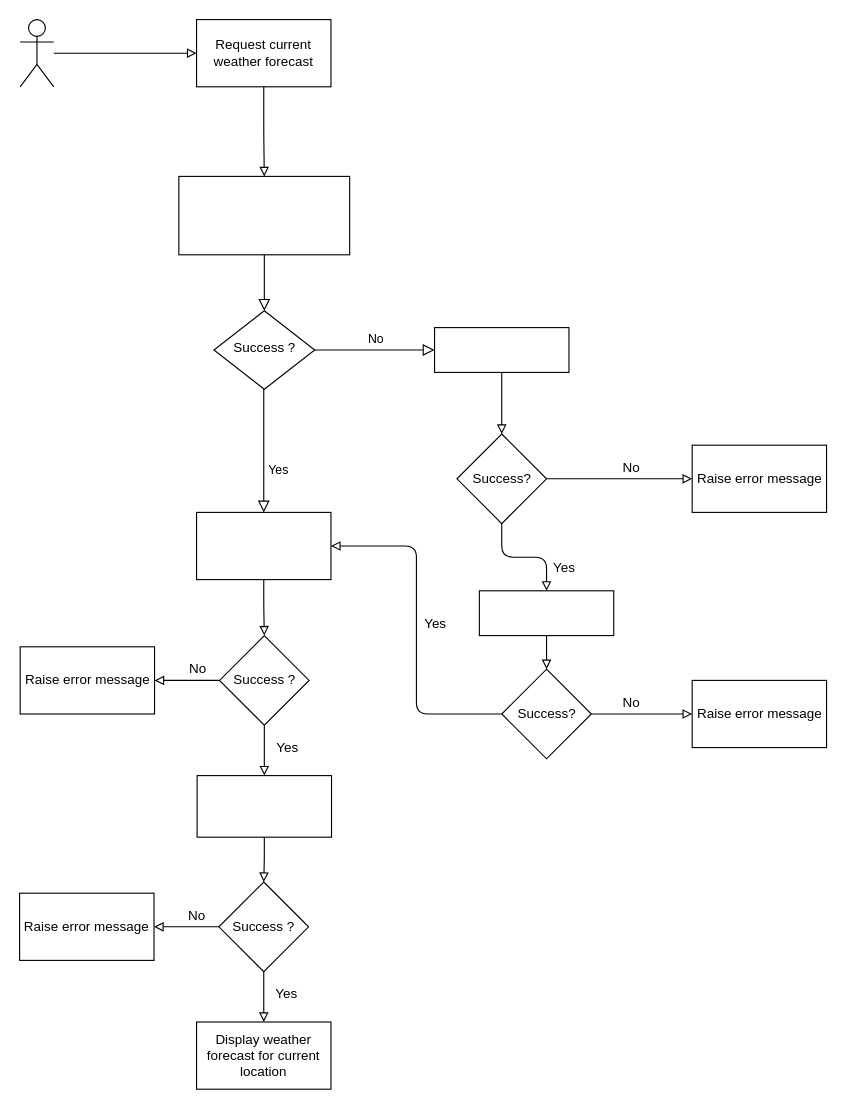
The diagram is 847 pixels wide and 1109 high, and some of its shapes have lost their labels. Each missing label, with the centre of its shape:
Detect IP: [501,349]
Detect location by IP: [546,613]
Request current location by Geolocation API: [264,215]
Request weather forecast by woeid: [264,805]
Search weather location id (woeid) by detected location: [263,545]
User: [36,52]
